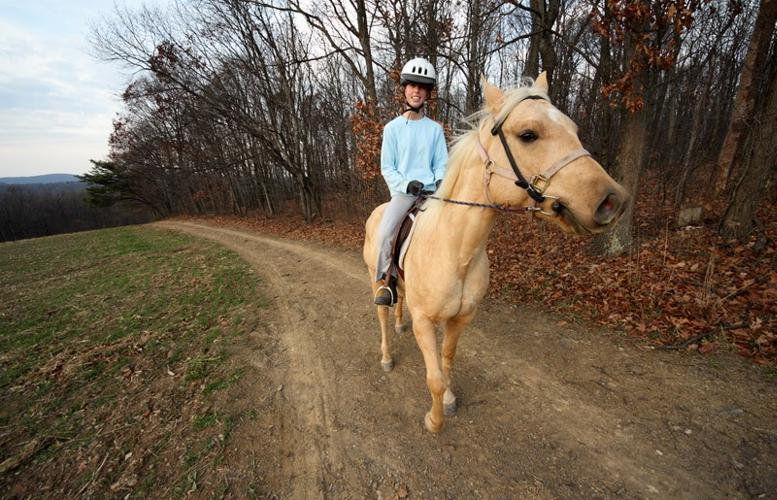person: (372, 59, 454, 308)
